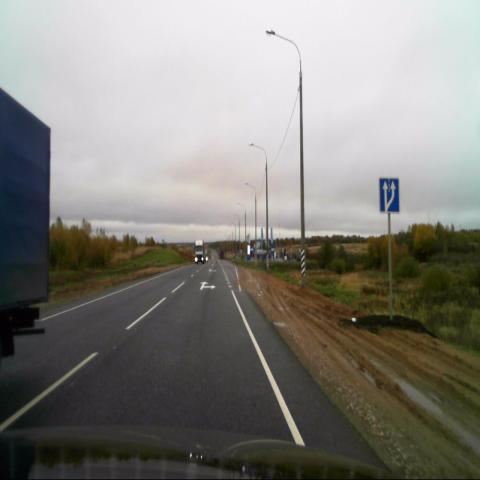5_15_3: (379, 178, 399, 212)
